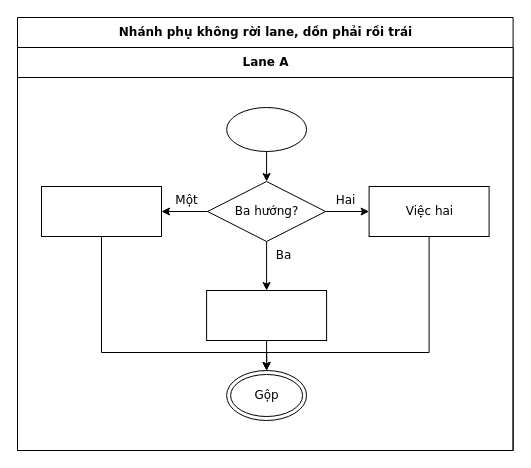
The diagram is 531 pixels wide and 468 high, and some of its shapes have lost their labels. The shapes that lost their labels are listed below. From the top down, each one's centre as x and y in pixels, then its label:
(266,129): Vào
(101,211): Việc một
(266,315): Việc ba
